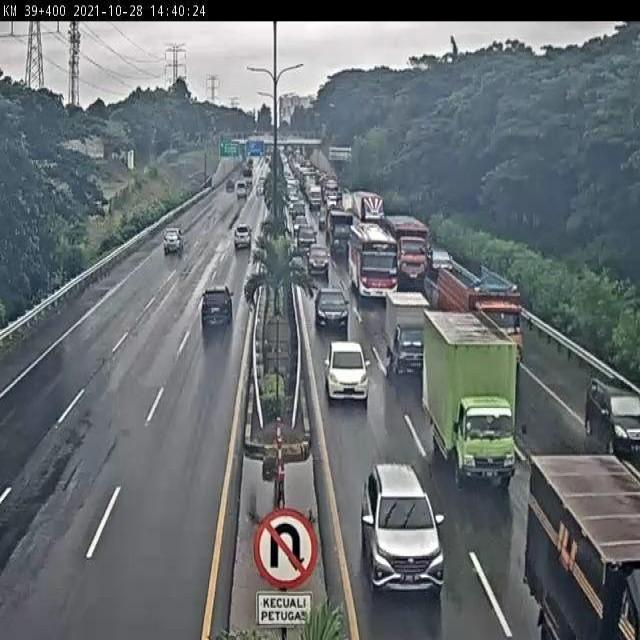bus-l-: (347, 220, 399, 301)
car: (363, 463, 446, 596), (587, 373, 640, 451), (324, 341, 368, 407), (314, 284, 349, 329), (199, 285, 235, 328), (430, 241, 457, 275), (306, 241, 332, 276), (160, 227, 185, 254), (232, 226, 255, 253)
small truck: (530, 457, 640, 640)
truck-l-: (438, 267, 524, 364), (388, 213, 428, 279)
truck-m-: (422, 310, 516, 482)
truck-s-: (380, 291, 429, 377)
